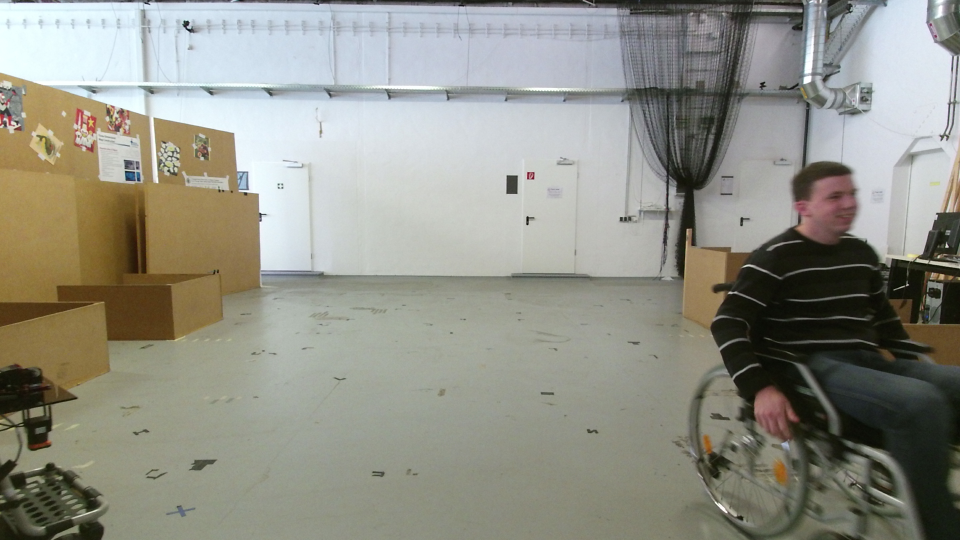wheelchair: (682, 156, 960, 540)
